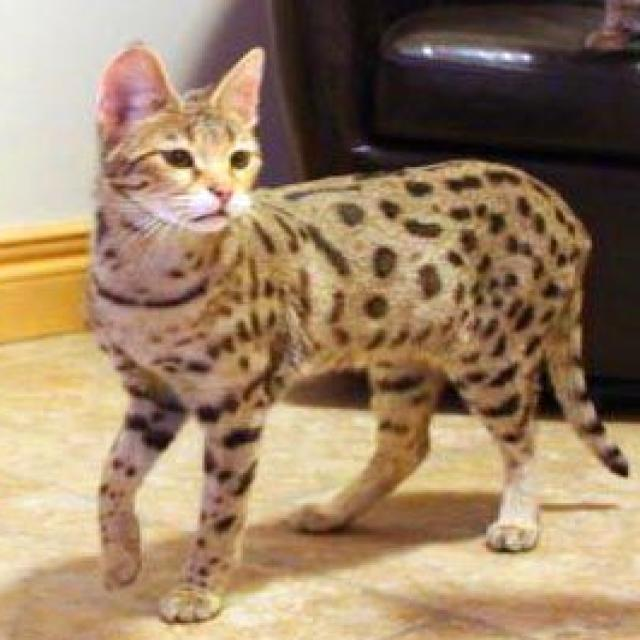Savannah: (82, 38, 636, 629)
